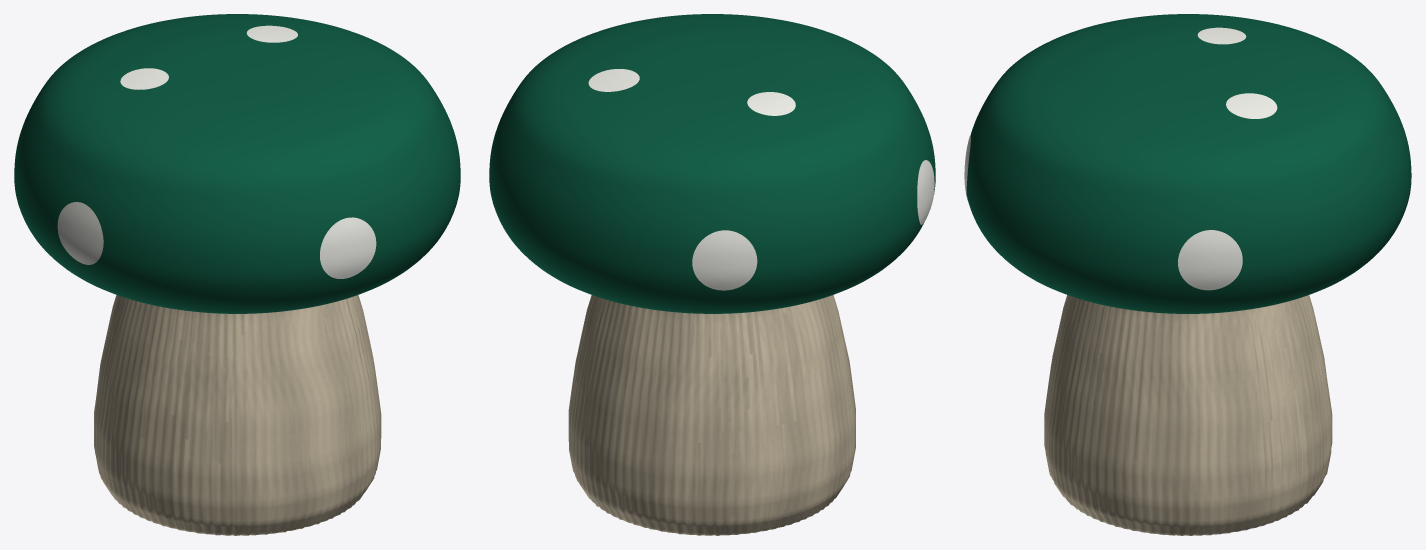
The model's file is foinfun-mushroom-stool.glb.
3 views of the same model, side by side, from view 1: azimuth 30°, elevation 25°; view 2: azimuth 150°, elevation 25°; view 3: azimuth 270°, elevation 25° (orthographic).
Visible parts, largest first — view 1: Mushroom cap and rounded seat, Carved ivory stem, White cap spot 00, White cap spot 03, White seat spot 00, White seat spot 01; view 2: Mushroom cap and rounded seat, Carved ivory stem, White cap spot 02, White seat spot 00, White seat spot 01, White cap spot 03; view 3: Mushroom cap and rounded seat, Carved ivory stem, White cap spot 01, White seat spot 01, White seat spot 00.
Boxes of the visible parts, x1,y1,x2,y2 form: Mushroom cap and rounded seat: (14,14,460,313); Carved ivory stem: (94,295,381,535); White cap spot 00: (320,217,376,278); White cap spot 03: (57,202,103,264); White seat spot 00: (120,68,168,89); White seat spot 01: (247,25,297,42); Mushroom cap and rounded seat: (489,14,935,313); Carved ivory stem: (568,295,855,535); White cap spot 02: (692,230,757,290); White seat spot 00: (747,92,795,115); White seat spot 01: (588,69,639,91); White cap spot 03: (917,160,934,224); Mushroom cap and rounded seat: (966,14,1411,313); Carved ivory stem: (1044,295,1332,535); White cap spot 01: (1178,230,1242,290); White seat spot 01: (1226,93,1277,118); White seat spot 00: (1197,27,1246,44).
Bounding box in the file's own units: 0.3302 × 0.3404 × 0.3302.
3 materials, 1 textured.
